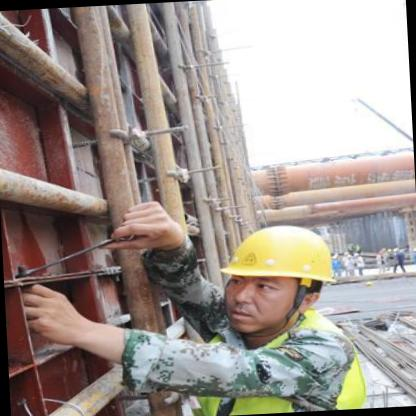helmet: (201, 213, 351, 346)
